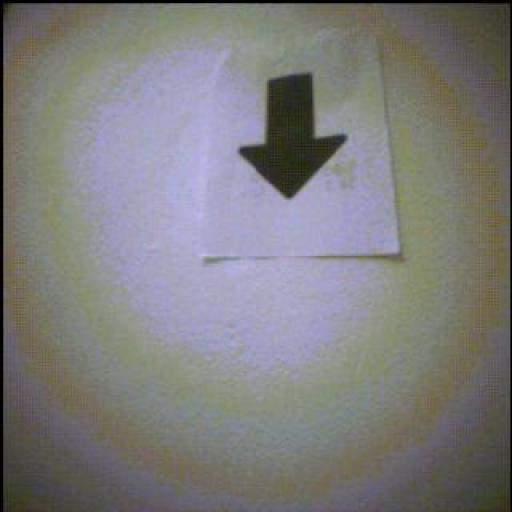arrow: (241, 75, 348, 200)
